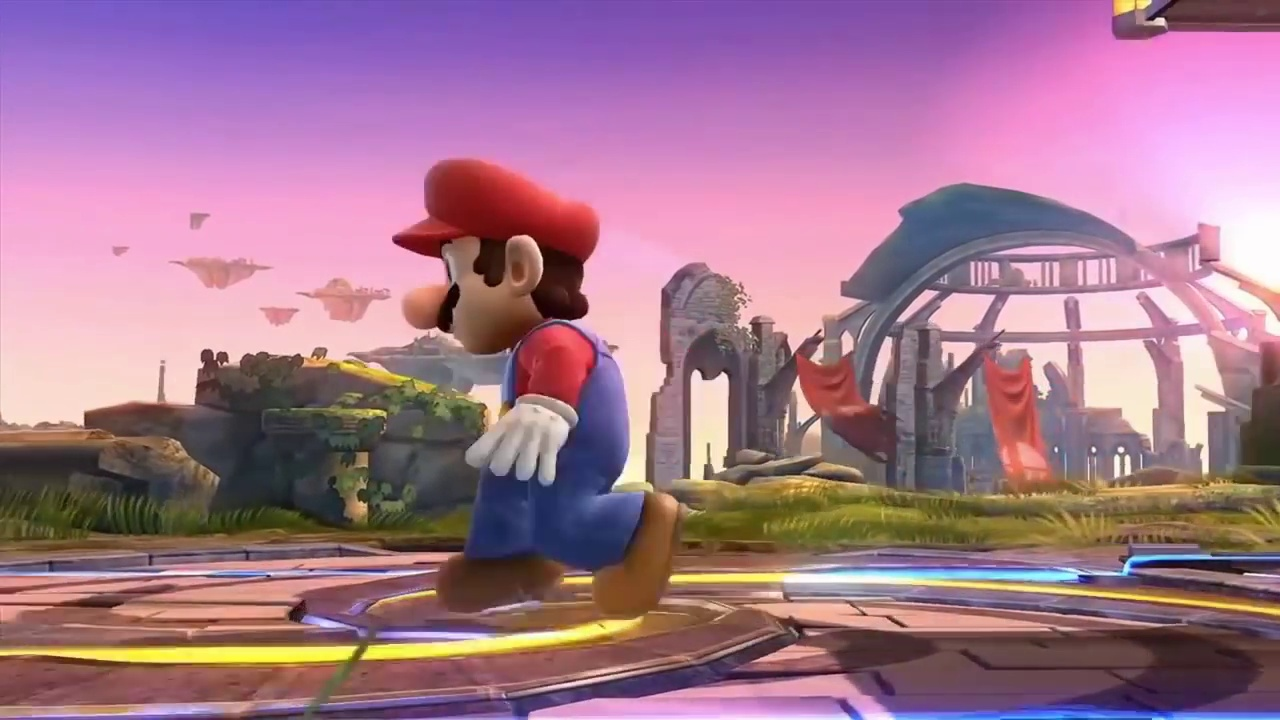Mario: (392, 158, 689, 619)
